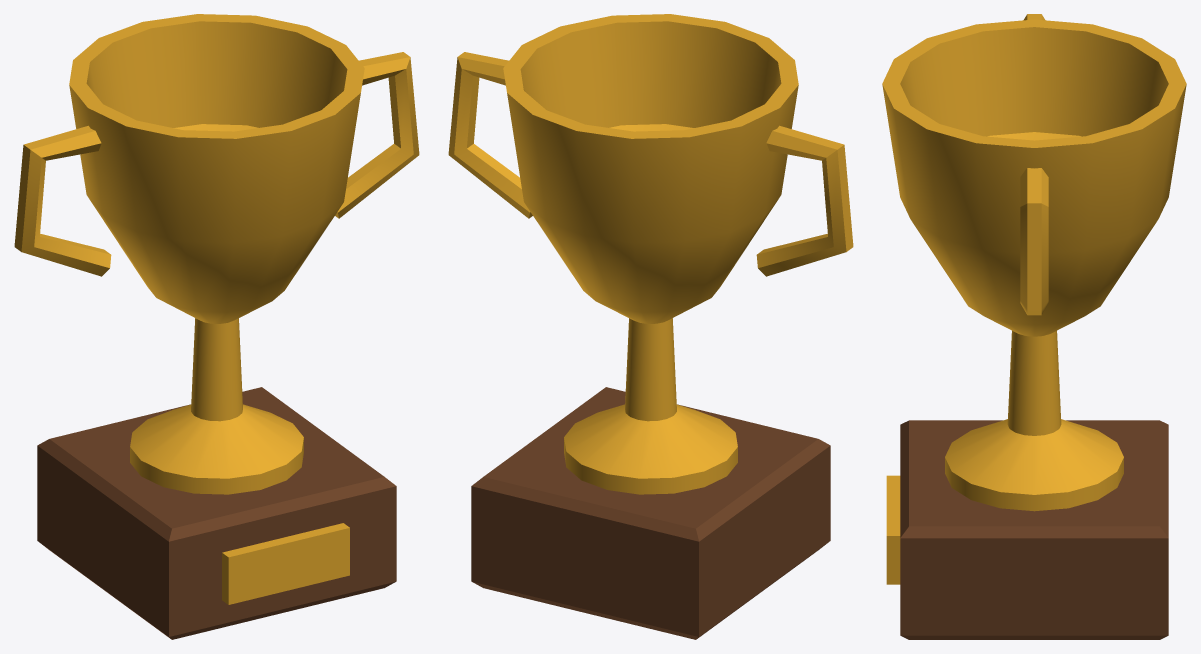
The model's file is trophy-gold-pixor.glb.
3 views of the same model, side by side, from view 1: azimuth 30°, elevation 25°; view 2: azimuth 150°, elevation 25°; view 3: azimuth 270°, elevation 25° (orthographic). The views are drawn at different scales.
Parts seen in each view (by area): view 1: Cup, Cup plinth, Cup plate; view 2: Cup, Cup plinth; view 3: Cup, Cup plinth, Cup plate.
Part boxes in pixels (box(x1,y1,x2,y2)): Cup: box(14, 14, 419, 494); Cup plinth: box(37, 387, 396, 639); Cup plate: box(222, 523, 349, 604); Cup: box(448, 14, 853, 494); Cup plinth: box(471, 387, 830, 639); Cup: box(882, 14, 1186, 511); Cup plinth: box(900, 420, 1168, 639); Cup plate: box(886, 475, 900, 584).
Bounding box in the file's own units: 0.5242 × 0.62 × 0.34.
